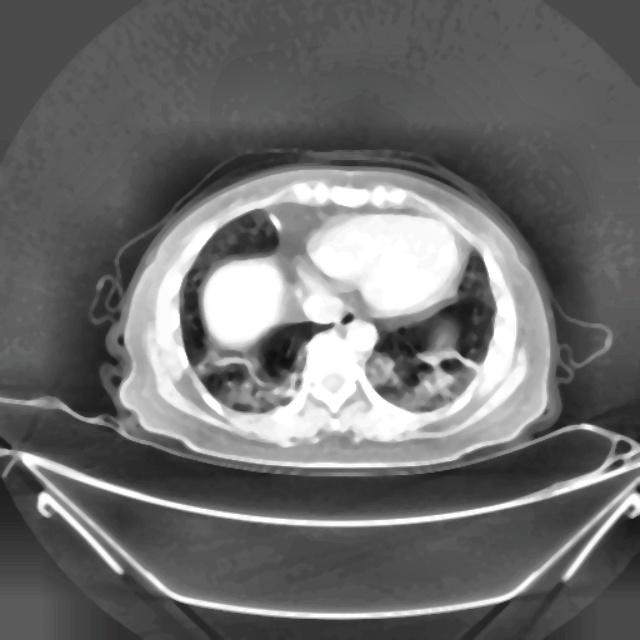covid: (94, 147, 566, 474)
